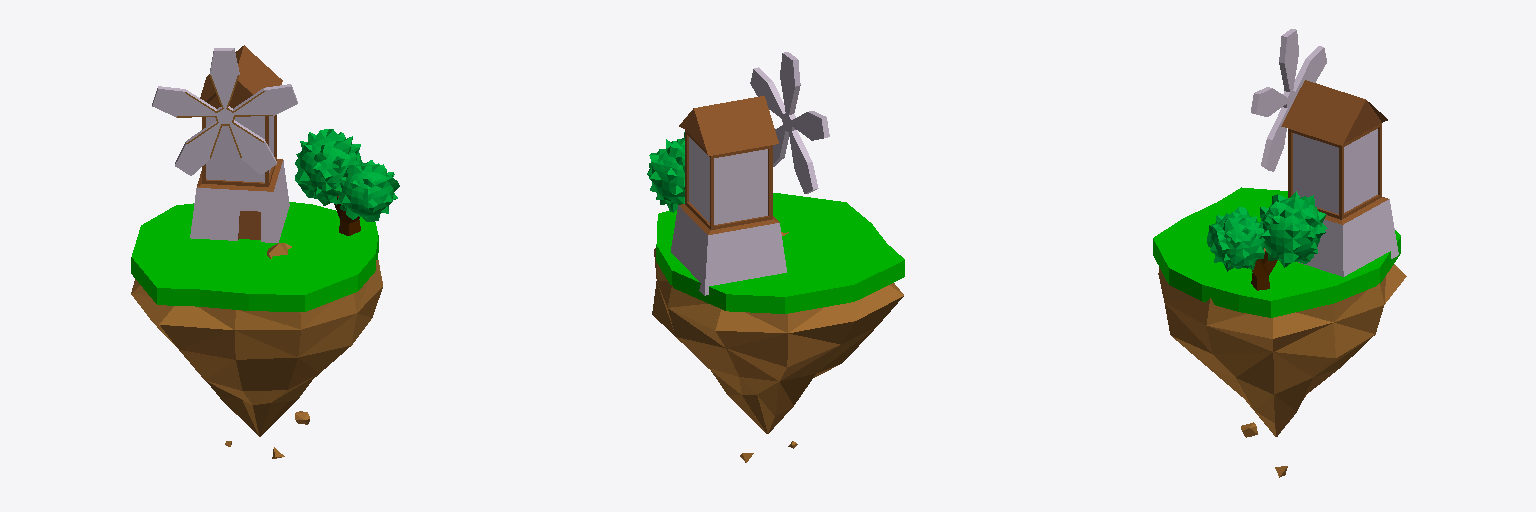
File: GameStage_1(skyisland).obj
The picture shows the model from 3 angles: view 1: azimuth 30°, elevation 25°; view 2: azimuth 150°, elevation 25°; view 3: azimuth 270°, elevation 25°; orthographic projection.
Visible parts, largest first — view 1: Green_platform, Island, Mill, propeller, Tree; view 2: Island, Mill, Green_platform, propeller, Tree; view 3: Island, Mill, Green_platform, Tree, propeller.
Part boxes in pixels (x1,y1,x2,y2): Green_platform: (131, 202, 378, 311); Island: (131, 243, 382, 458); Mill: (190, 45, 289, 242); propeller: (152, 48, 297, 175); Tree: (295, 129, 399, 235); Island: (652, 232, 903, 462); Mill: (671, 96, 786, 295); Green_platform: (656, 193, 904, 313); propeller: (750, 52, 829, 193); Tree: (647, 132, 684, 212); Island: (1158, 248, 1406, 477); Mill: (1281, 80, 1398, 276); Green_platform: (1153, 187, 1400, 317); Tree: (1207, 191, 1327, 290); propeller: (1251, 29, 1326, 171).
Bounding box in the file's own units: 44.51 × 75.69 × 41.48.